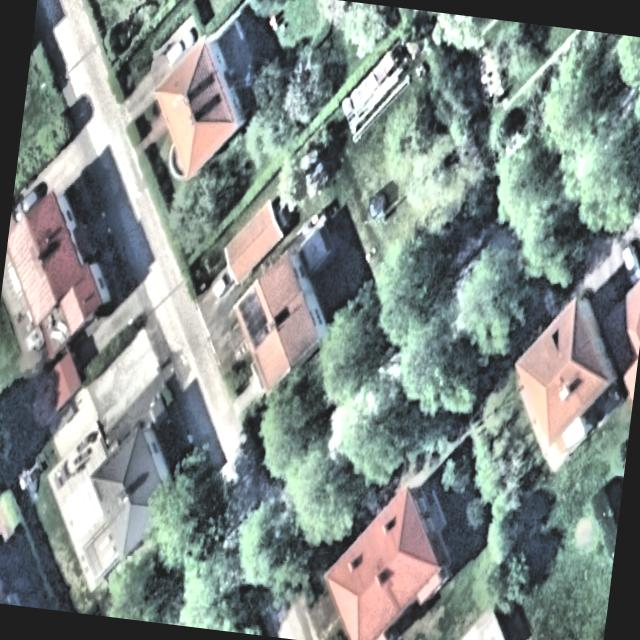roof_pv: (230, 282, 278, 348)
